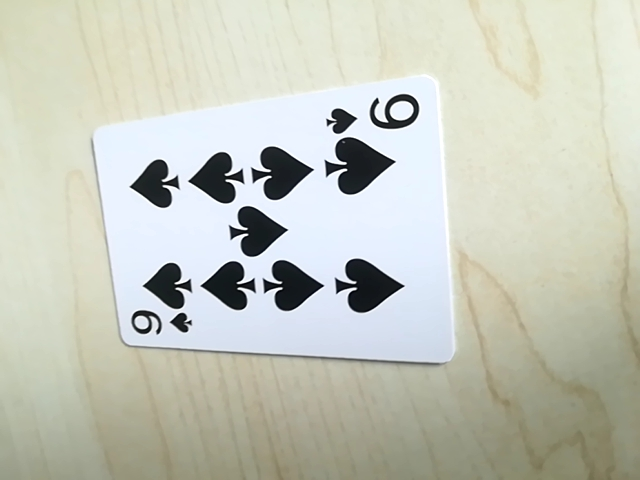ht 9: (323, 88, 423, 138), (123, 306, 197, 344)
